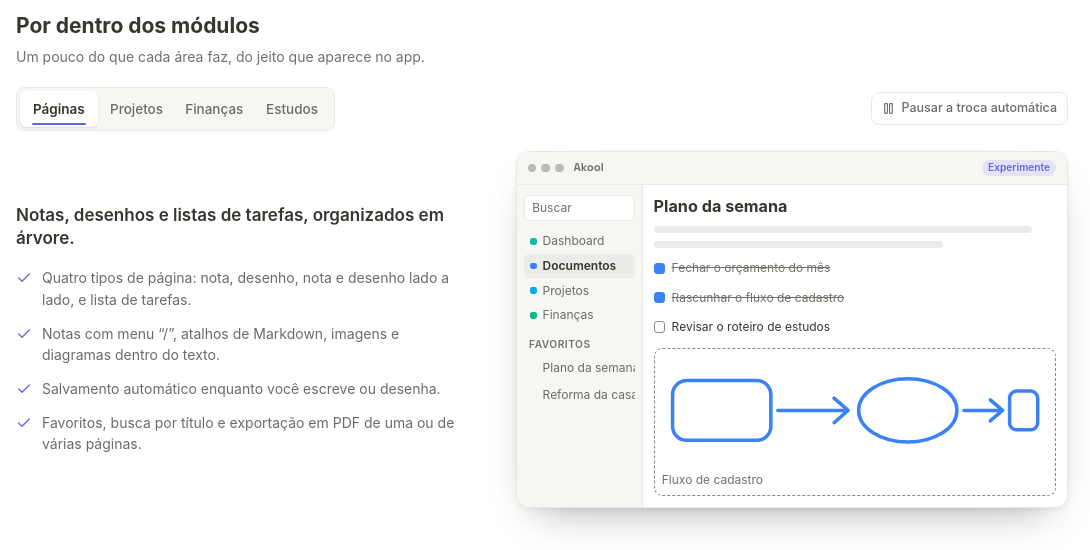
Scenario: LandingShowcase: a prévia é uma demonstração › a barra lateral da prévia troca a aba e pausa; a prévia não remonta
This screenshot has width=1090, height=550.
What coordinates should you click on to do the following:
click the radio button labelled "Finanças"
I would click on:
 (562, 315)
Its box is [530, 307, 594, 322].
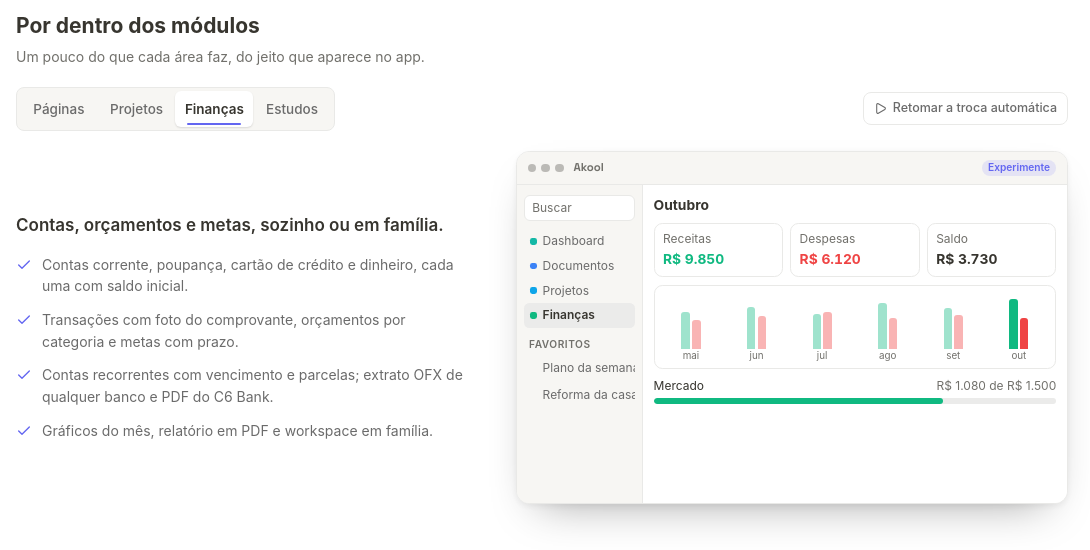
Expected: the tab "Finanças" is shown, [176, 90, 253, 127]
Now the button "Retomar a troca automática" is shown, box [863, 92, 1068, 125]
